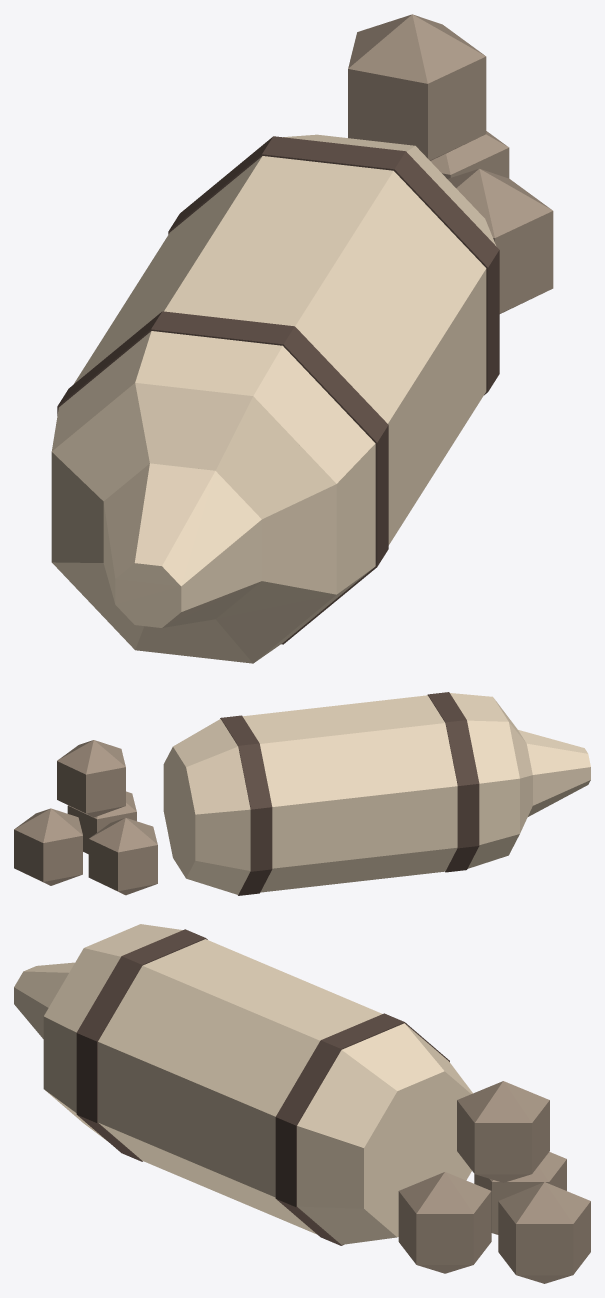
File: ce_ammo2_grape_grape_a.obj
The picture shows the model from 3 angles, top to bottom: view 1: azimuth 30°, elevation 25°; view 2: azimuth 150°, elevation 25°; view 3: azimuth 270°, elevation 25°; orthographic projection. The views are drawn at different scales.
Parts seen in each view (by area): view 1: ce_ammo2_grape_grape_a_4, ce_ammo2_grape_grape_a_1, ce_ammo2_grape_grape_a_2, ce_ammo2_grape_grape_a_0, ce_ammo2_grape_grape_a_10, ce_ammo2_grape_grape_a_3, ce_ammo2_grape_grape_a_5, ce_ammo2_grape_grape_a_8, ce_ammo2_grape_grape_a_9, ce_ammo2_grape_grape_a_6; view 2: ce_ammo2_grape_grape_a_4, ce_ammo2_grape_grape_a_6, ce_ammo2_grape_grape_a_2, ce_ammo2_grape_grape_a_7, ce_ammo2_grape_grape_a_10, ce_ammo2_grape_grape_a_9, ce_ammo2_grape_grape_a_3, ce_ammo2_grape_grape_a_5, ce_ammo2_grape_grape_a_0, ce_ammo2_grape_grape_a_1, ce_ammo2_grape_grape_a_8; view 3: ce_ammo2_grape_grape_a_4, ce_ammo2_grape_grape_a_6, ce_ammo2_grape_grape_a_8, ce_ammo2_grape_grape_a_9, ce_ammo2_grape_grape_a_10, ce_ammo2_grape_grape_a_2, ce_ammo2_grape_grape_a_5, ce_ammo2_grape_grape_a_3, ce_ammo2_grape_grape_a_0, ce_ammo2_grape_grape_a_7.
Boxes of the visible parts, x1,y1,x2,y2 form: ce_ammo2_grape_grape_a_4: [73, 156, 486, 545]; ce_ammo2_grape_grape_a_1: [51, 383, 336, 663]; ce_ammo2_grape_grape_a_2: [51, 331, 375, 662]; ce_ammo2_grape_grape_a_0: [103, 463, 261, 627]; ce_ammo2_grape_grape_a_10: [348, 14, 486, 160]; ce_ammo2_grape_grape_a_3: [57, 311, 388, 644]; ce_ammo2_grape_grape_a_5: [168, 136, 499, 395]; ce_ammo2_grape_grape_a_8: [447, 168, 553, 313]; ce_ammo2_grape_grape_a_9: [430, 131, 509, 178]; ce_ammo2_grape_grape_a_6: [283, 134, 496, 246]; ce_ammo2_grape_grape_a_4: [243, 695, 457, 892]; ce_ammo2_grape_grape_a_6: [163, 719, 250, 894]; ce_ammo2_grape_grape_a_2: [450, 693, 519, 868]; ce_ammo2_grape_grape_a_7: [88, 817, 157, 895]; ce_ammo2_grape_grape_a_10: [57, 740, 125, 817]; ce_ammo2_grape_grape_a_9: [14, 808, 82, 885]; ce_ammo2_grape_grape_a_3: [427, 692, 479, 872]; ce_ammo2_grape_grape_a_5: [220, 715, 272, 895]; ce_ammo2_grape_grape_a_0: [518, 730, 590, 816]; ce_ammo2_grape_grape_a_1: [494, 699, 532, 833]; ce_ammo2_grape_grape_a_8: [67, 791, 136, 854]; ce_ammo2_grape_grape_a_4: [98, 939, 381, 1234]; ce_ammo2_grape_grape_a_6: [297, 1023, 472, 1244]; ce_ammo2_grape_grape_a_8: [398, 1172, 491, 1273]; ce_ammo2_grape_grape_a_9: [498, 1182, 590, 1283]; ce_ammo2_grape_grape_a_10: [457, 1081, 549, 1182]; ce_ammo2_grape_grape_a_2: [43, 924, 182, 1141]; ce_ammo2_grape_grape_a_5: [275, 1013, 449, 1245]; ce_ammo2_grape_grape_a_3: [76, 929, 207, 1161]; ce_ammo2_grape_grape_a_0: [14, 962, 74, 1038]; ce_ammo2_grape_grape_a_7: [474, 1152, 566, 1234].
Size of the model in its own units: 0.5873 by 0.235 by 0.5944.
